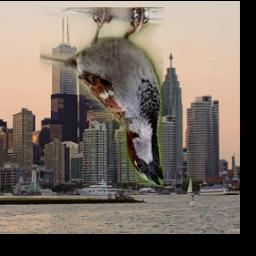Sparrow: (41, 8, 164, 188)
